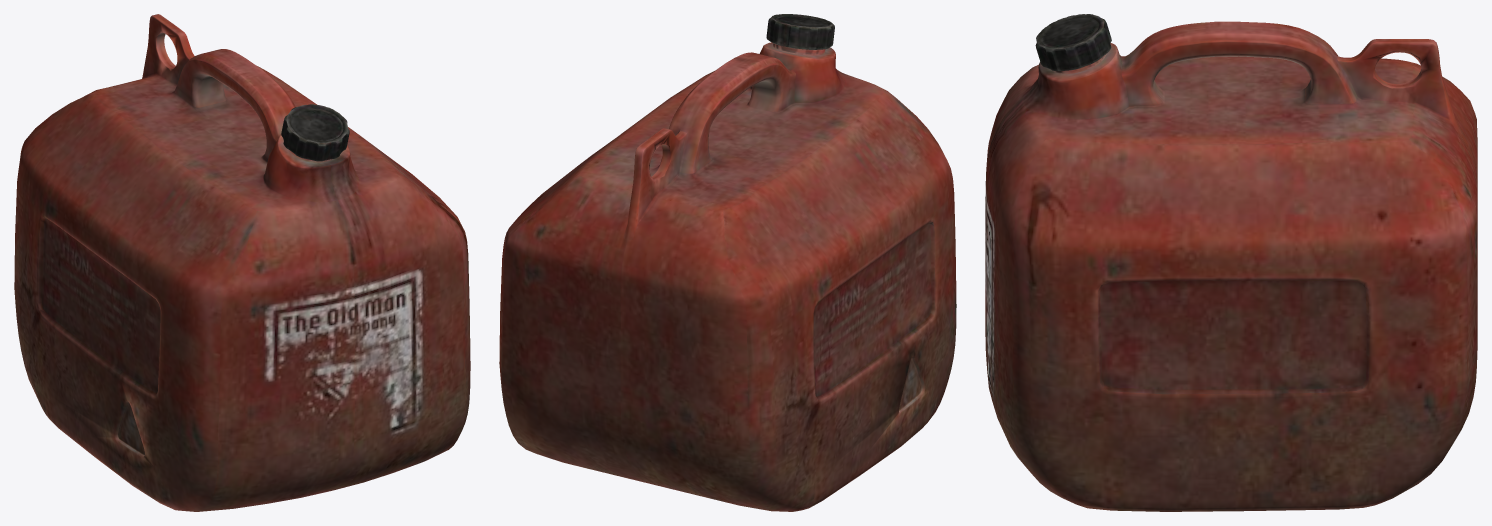
The model's file is plastic_jerrycan.glb.
3 views of the same model, side by side, from view 1: azimuth 30°, elevation 25°; view 2: azimuth 150°, elevation 25°; view 3: azimuth 270°, elevation 25° (orthographic). The views are drawn at different scales.
Parts seen in each view (by area): view 1: plastic_jerrycan; view 2: plastic_jerrycan; view 3: plastic_jerrycan.
Boxes of the visible parts, left/top/right/bottom form: plastic_jerrycan: left=14, top=14, right=470, bottom=511; plastic_jerrycan: left=499, top=14, right=956, bottom=511; plastic_jerrycan: left=985, top=14, right=1477, bottom=511.
Size of the model in its own units: 0.268 by 0.3184 by 0.3408.
Materials: 1 (1 with a texture image).
